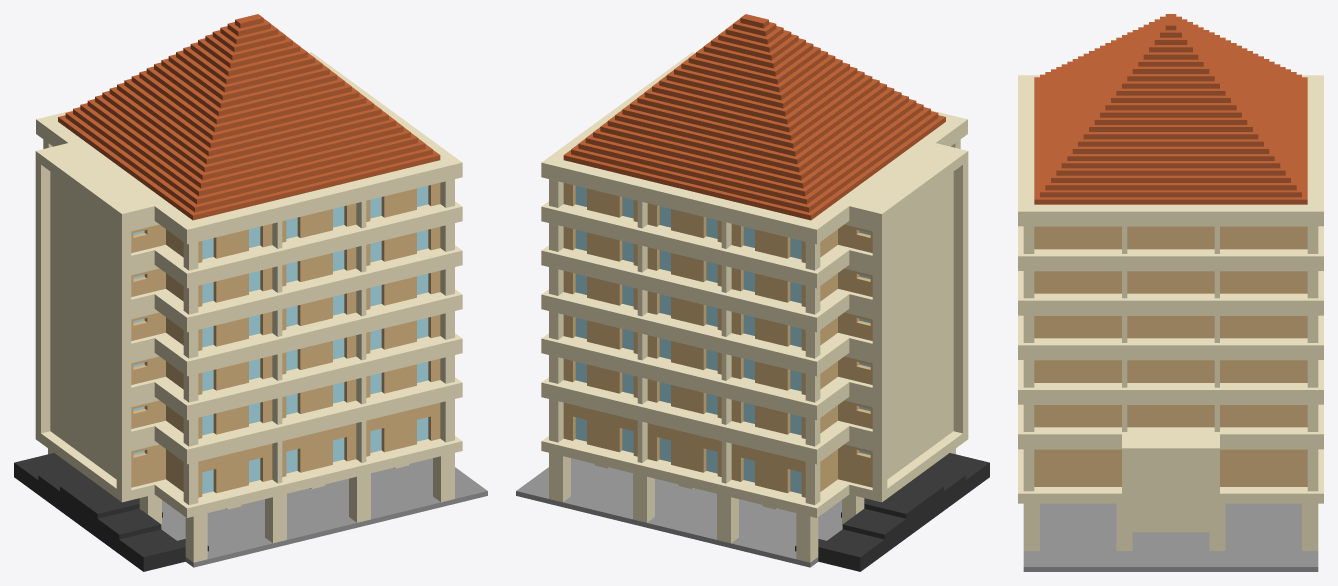
Rendered from gedung_koridor_-_filkom.glb.
3 renders of one model, left to right at view 1: azimuth 30°, elevation 25°; view 2: azimuth 150°, elevation 25°; view 3: azimuth 270°, elevation 25°, orthographic.
Visible parts, largest first — view 1: Object_2; view 2: Object_2; view 3: Object_2.
Boxes of the visible parts, x1=… form: Object_2: x1=14, y1=14, x2=487, y2=571; Object_2: x1=516, y1=14, x2=989, y2=571; Object_2: x1=1018, y1=14, x2=1323, y2=571.
Size of the model in its own units: 7.2 by 9.5 by 5.6.
Materials: 1 (1 with a texture image).
